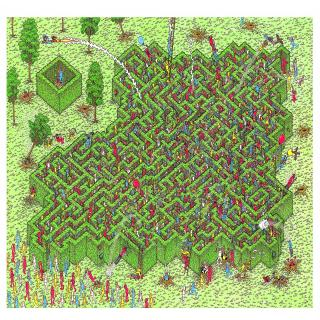Waldo: (178, 139, 180, 144)
